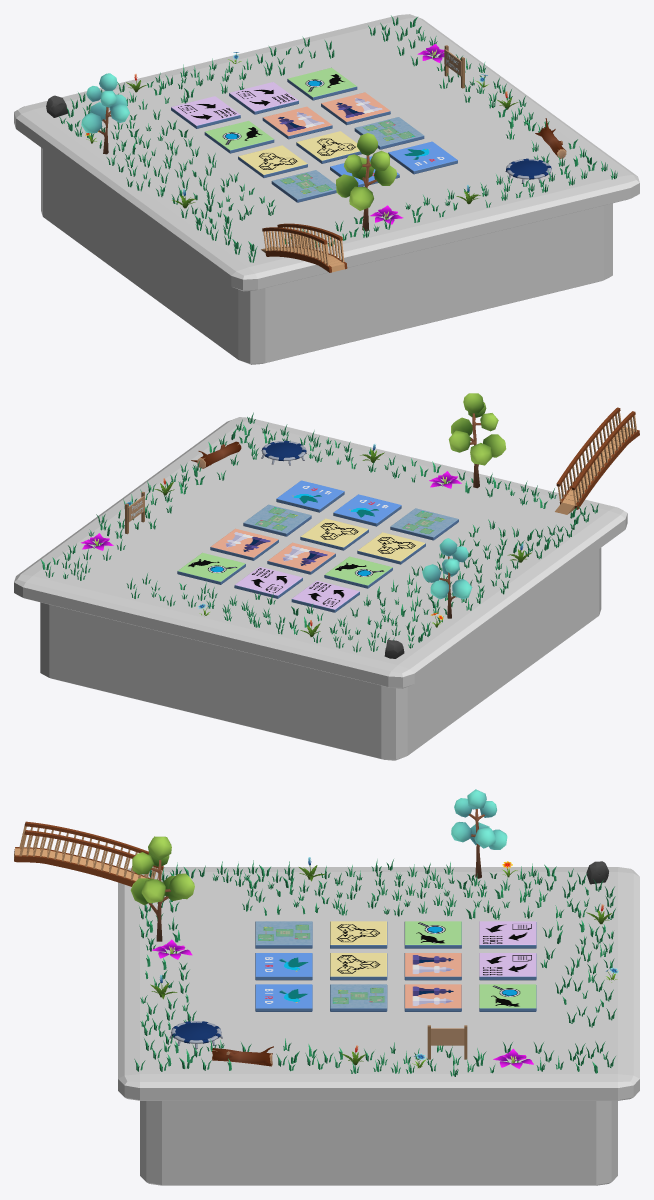
The model's file is projects island.glb.
3 renders of one model, top to bottom at view 1: azimuth 30°, elevation 25°; view 2: azimuth 150°, elevation 25°; view 3: azimuth 270°, elevation 25°, orthographic. The views are drawn at different scales.
Parts seen in each view (by area): view 1: Project island, TreeR3_GRADIENT_0, Cube.007, TreeRC3_GRADIENT_0, tuile échec 1, tuile find the cat 1, tuile compilateur 2, tuile find the cat 2, tuile compilateur 1, tuile PBFT 1, tuile échec 2, tuile bird 2 (+4 smaller); view 2: Project island, Cube.007, TreeR3_GRADIENT_0, TreeRC3_GRADIENT_0, tuile portfolio 1, tuile portfolio 2, tuile bird 1, tuile bird 2, tuile PBFT 2, tuile compilateur 1, tuile find the cat 1, tuile PBFT 1 (+7 smaller); view 3: Project island, Cube.007, TreeR3_GRADIENT_0, TreeRC3_GRADIENT_0, tuile compilateur 1, tuile portfolio 1, tuile bird 2, tuile find the cat 2, tuile find the cat 1, tuile échec 2, tuile échec 1, tuile PBFT 2 (+8 smaller).
Part boxes in pixels (left/top/right/bottom): Project island: left=14, top=14, right=639, bottom=364; TreeR3_GRADIENT_0: left=336, top=133, right=397, bottom=231; Cube.007: left=262, top=223, right=347, bottom=272; TreeRC3_GRADIENT_0: left=81, top=73, right=129, bottom=154; tuile échec 1: left=262, top=106, right=332, bottom=139; tuile find the cat 1: left=204, top=120, right=274, bottom=153; tuile compilateur 2: left=229, top=82, right=298, bottom=114; tuile find the cat 2: left=287, top=67, right=357, bottom=100; tuile compilateur 1: left=171, top=96, right=240, bottom=128; tuile PBFT 1: left=238, top=145, right=307, bottom=177; tuile échec 2: left=321, top=92, right=390, bottom=125; tuile bird 2: left=388, top=141, right=457, bottom=174; Project island: left=14, top=417, right=627, bottom=760; Cube.007: left=556, top=407, right=639, bottom=509; TreeR3_GRADIENT_0: left=448, top=393, right=506, bottom=488; TreeRC3_GRADIENT_0: left=422, top=538, right=472, bottom=618; tuile portfolio 1: left=390, top=508, right=458, bottom=540; tuile portfolio 2: left=243, top=504, right=311, bottom=536; tuile bird 1: left=333, top=494, right=401, bottom=526; tuile bird 2: left=276, top=480, right=344, bottom=512; tuile PBFT 2: left=300, top=518, right=368, bottom=550; tuile compilateur 1: left=291, top=580, right=359, bottom=612; tuile find the cat 1: left=324, top=556, right=392, bottom=588; tuile PBFT 1: left=357, top=532, right=425, bottom=564; Project island: left=118, top=867, right=639, bottom=1185; Cube.007: left=14, top=821, right=163, bottom=886; TreeR3_GRADIENT_0: left=130, top=836, right=194, bottom=941; TreeRC3_GRADIENT_0: left=451, top=789, right=507, bottom=878; tuile compilateur 1: left=479, top=921, right=536, bottom=948; tuile portfolio 1: left=255, top=921, right=312, bottom=948; tuile bird 2: left=255, top=984, right=312, bottom=1011; tuile find the cat 2: left=479, top=984, right=536, bottom=1011; tuile find the cat 1: left=404, top=921, right=461, bottom=948; tuile échec 2: left=404, top=984, right=461, bottom=1011; tuile échec 1: left=404, top=953, right=461, bottom=980; tuile PBFT 2: left=330, top=953, right=387, bottom=980.
Size of the model in its own units: 62.92 by 29.41 by 75.47.
Materials: 18 (10 with a texture image).
